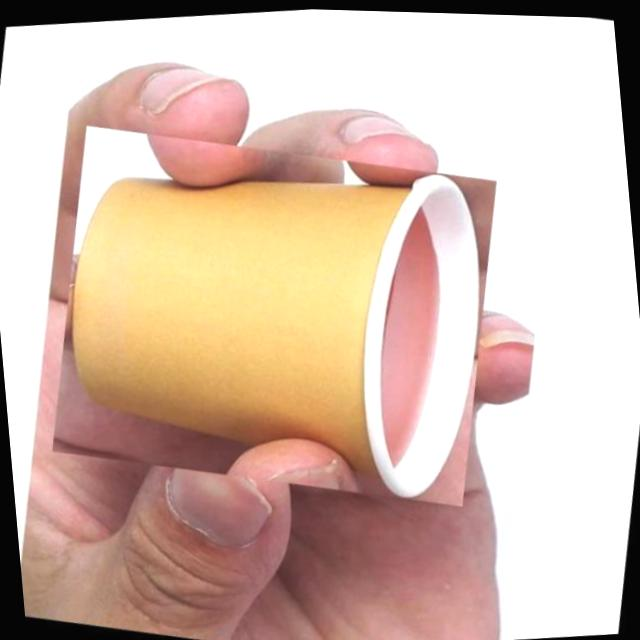Cup: (24, 88, 526, 540)
